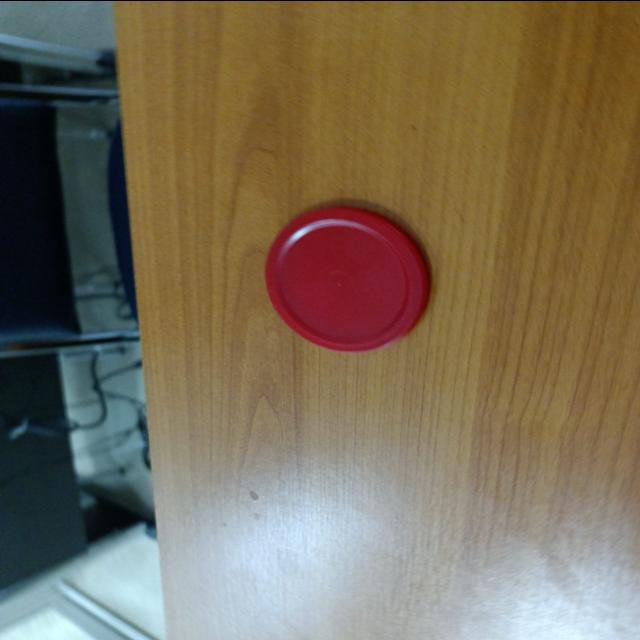chip: (261, 204, 430, 352)
